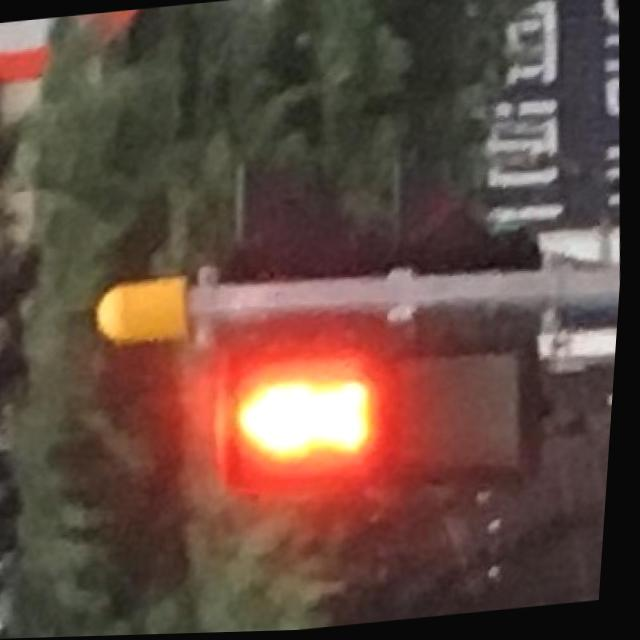red_light: (235, 358, 384, 475)
